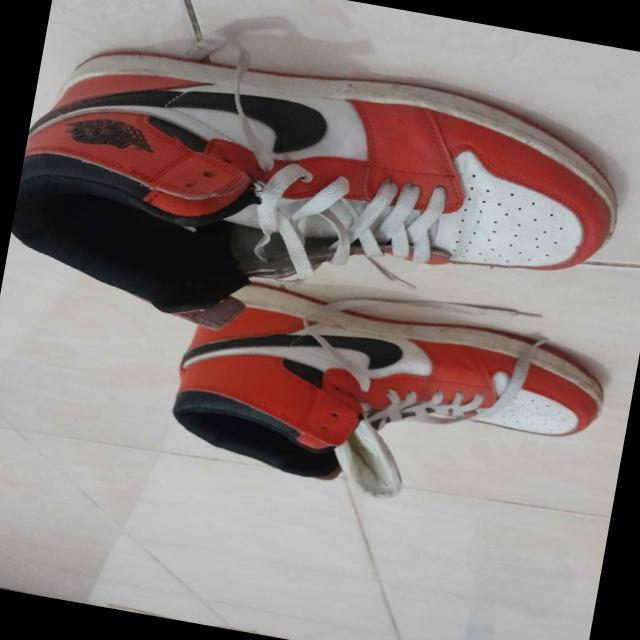nike fake jordan 1: (1, 17, 636, 394), (154, 255, 632, 538)
